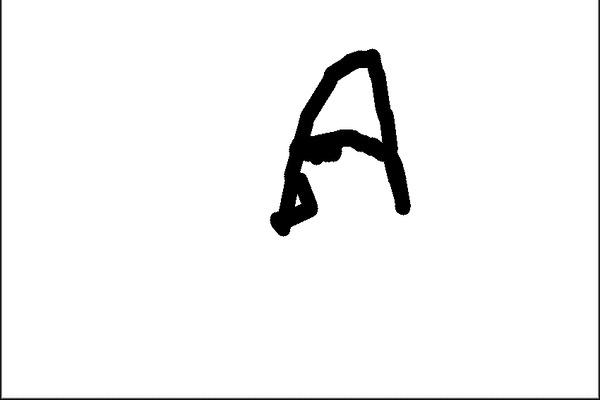A: (263, 35, 428, 247)
